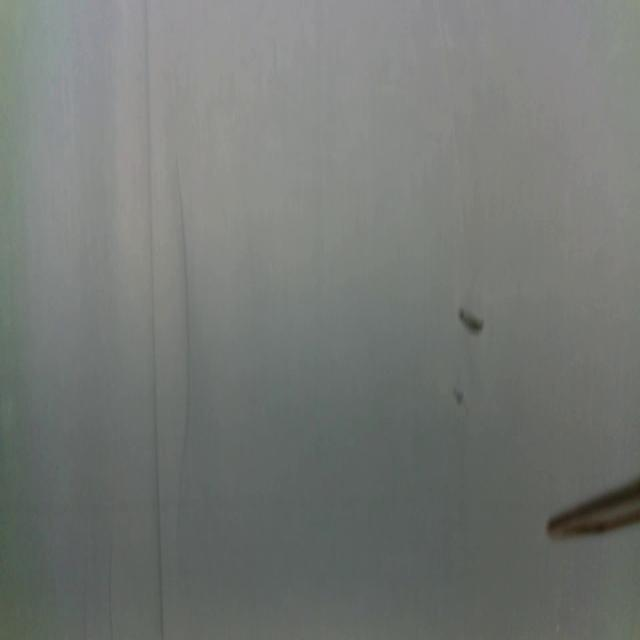color bleeding: (2, 488, 280, 522)
crease: (142, 3, 166, 639), (173, 152, 192, 540)
hole: (457, 306, 488, 340), (454, 384, 466, 409)
